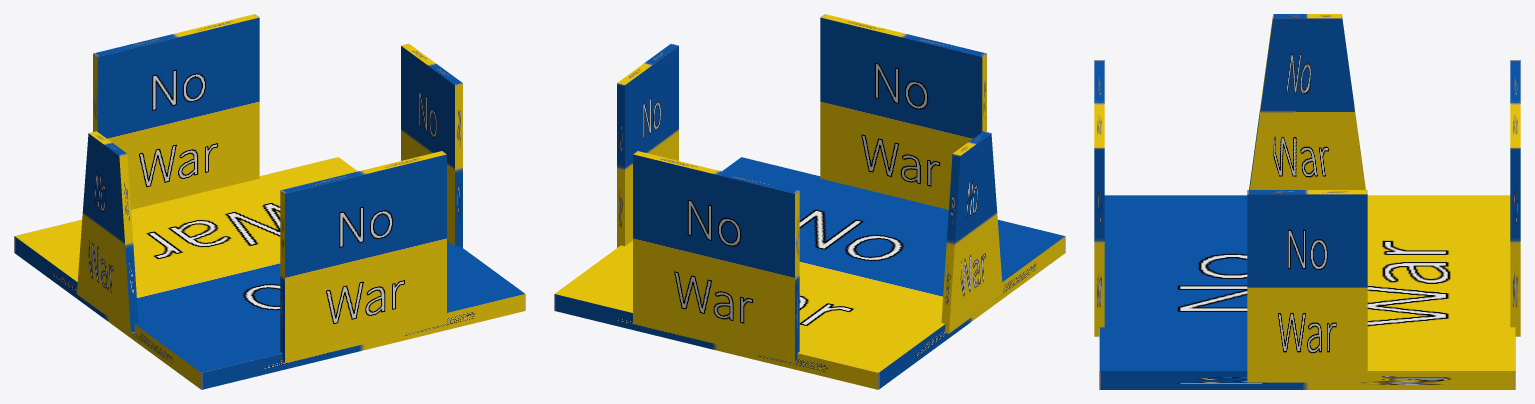
Rendered from stage.glb.
The picture shows the model from 3 angles, left to right: view 1: azimuth 30°, elevation 25°; view 2: azimuth 150°, elevation 25°; view 3: azimuth 270°, elevation 25°; orthographic projection. The views are drawn at different scales.
Parts seen in each view (by area): view 1: Cube; view 2: Cube; view 3: Cube.
Part boxes in pixels (x1,y1,x2,y2): Cube: (14, 14, 525, 389); Cube: (554, 14, 1065, 389); Cube: (1094, 14, 1520, 389).
Size of the model in its own units: 20.5 by 10.5 by 20.5.
Materials: 1 (1 with a texture image).
